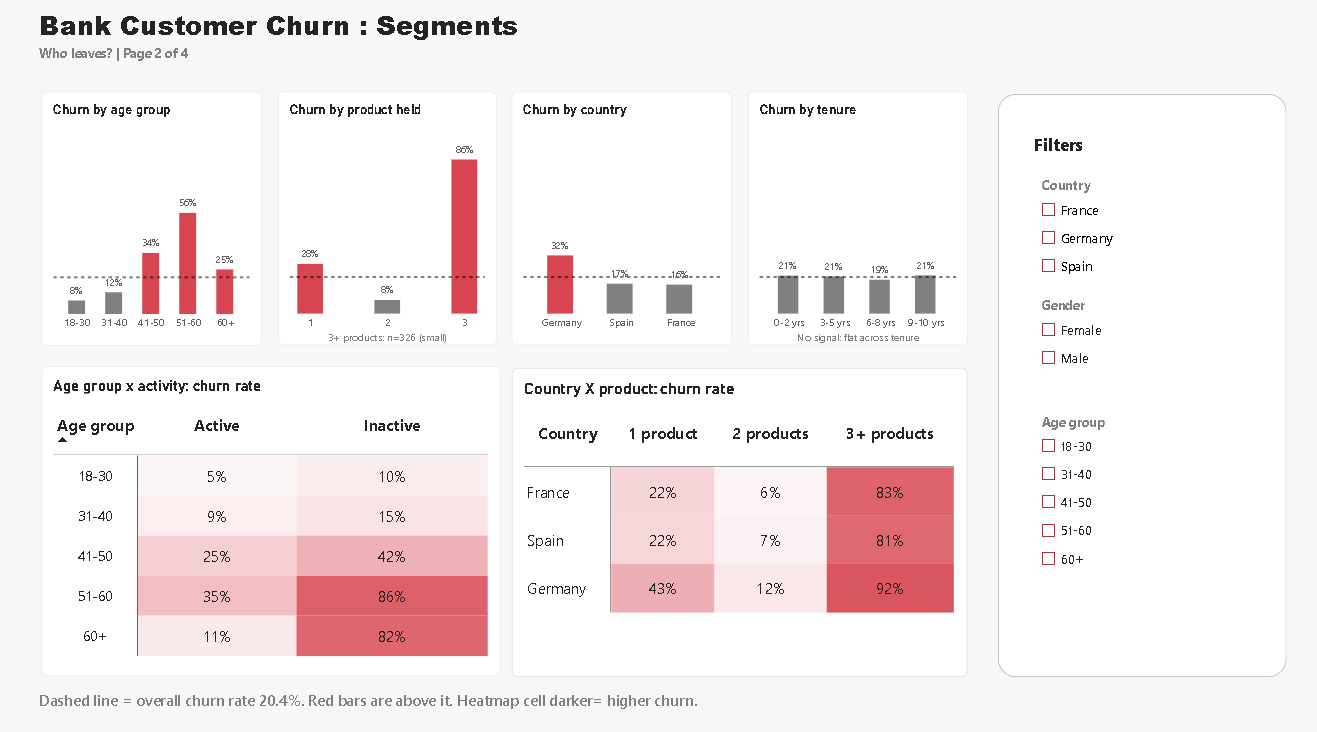

The page's visual inventory and layout, read from the dashboard file:
{"tool":"powerbi","page":{"name":"Segments","canvas":[1920,1080],"ordinal":1},"visuals":[{"type":"textbox","title":"Bank Customer Churn : Segments","box":[59.7,18.1,1860.3,83.2],"z":0},{"type":"shape","box":[1447.8,145,417.7,844],"z":1000},{"type":"slicer","fields":{"Values":["churn_powerbi.country"]},"box":[1504.1,264,145,162.3],"z":2000},{"type":"slicer","fields":{"Values":["churn_powerbi.gender"]},"box":[1504.1,437.2,145,134.2],"z":3000},{"type":"slicer","fields":{"Values":["churn_powerbi.age_group"]},"box":[1504.1,606,193.6,240.7],"z":4000},{"type":"textbox","box":[1499.8,201.3,196.9,62.8],"z":5000},{"type":"columnChart","title":"Churn by age group","fields":{"Category":["churn_powerbi.age_group"],"Y":["calculations.Churn Rate"]},"box":[64.1,141.5,318.1,367.9],"z":6000},{"type":"columnChart","title":"Churn by product held","fields":{"Category":["churn_powerbi.product_group_sort"],"Y":["calculations.Churn Rate"]},"box":[405.4,141.2,316.7,367.4],"z":7000},{"type":"columnChart","title":"Churn by country","fields":{"Category":["churn_powerbi.country"],"Y":["calculations.Churn Rate"]},"box":[743.8,141.2,318.5,367.4],"z":8000},{"type":"columnChart","title":"Churn by tenure","fields":{"Category":["churn_powerbi.tenure_band"],"Y":["calculations.Churn Rate"]},"box":[1085.8,141.2,318.5,367.4],"z":9000},{"type":"pivotTable","title":"Age group x activity: churn rate","fields":{"Columns":["churn_powerbi.active_label"],"Rows":["churn_powerbi.age_group"],"Values":["calculations.Churn Rate"]},"box":[63.8,540,664.1,447],"z":10000},{"type":"pivotTable","title":"Country X product: churn rate","fields":{"Columns":["churn_powerbi.product_group"],"Rows":["churn_powerbi.country"],"Values":["calculations.Churn Rate"]},"box":[744.5,541,660.1,448],"z":11000},{"type":"textbox","box":[1085.8,486.8,318.5,21.7],"z":12000},{"type":"textbox","box":[405.4,486.8,316.7,21.7],"z":13000},{"type":"textbox","box":[59.7,1006.2,1735.5,74.2],"z":14000}]}

Visuals, with their boxes in screenshot pixels (x1, y1, x2, y2), scaled from the page's 1920x1080 canvas onto the 1317x732 screenshot:
"Bank Customer Churn : Segments" textbox: (41, 12, 1316, 69)
shape: (993, 98, 1280, 670)
slicer - churn_powerbi.country: (1032, 179, 1131, 289)
slicer - churn_powerbi.gender: (1032, 296, 1131, 387)
slicer - churn_powerbi.age_group: (1032, 411, 1165, 574)
textbox: (1029, 136, 1164, 179)
"Churn by age group" columnChart: (44, 96, 262, 345)
"Churn by product held" columnChart: (278, 96, 495, 345)
"Churn by country" columnChart: (510, 96, 729, 345)
"Churn by tenure" columnChart: (745, 96, 963, 345)
"Age group x activity: churn rate" pivotTable: (44, 366, 499, 669)
"Country X product: churn rate" pivotTable: (511, 367, 963, 670)
textbox: (745, 330, 963, 345)
textbox: (278, 330, 495, 345)
textbox: (41, 682, 1231, 731)
